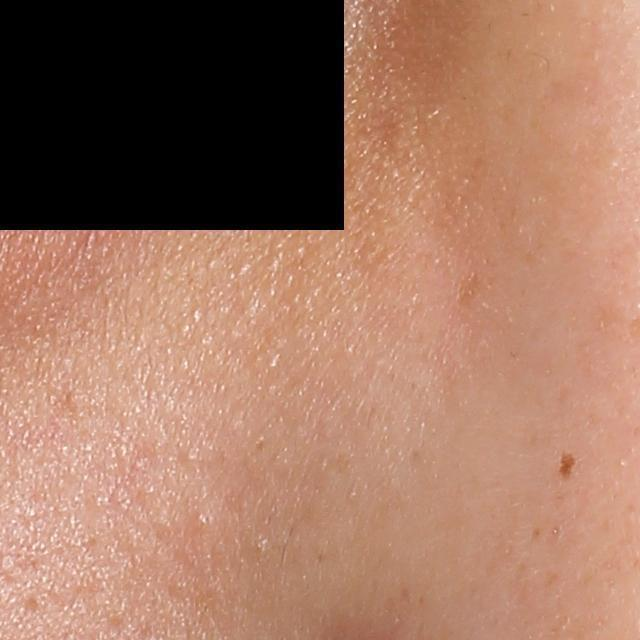comedo: (195, 510, 217, 531)
melasma: (450, 266, 484, 309)
nevus: (556, 450, 577, 483)
